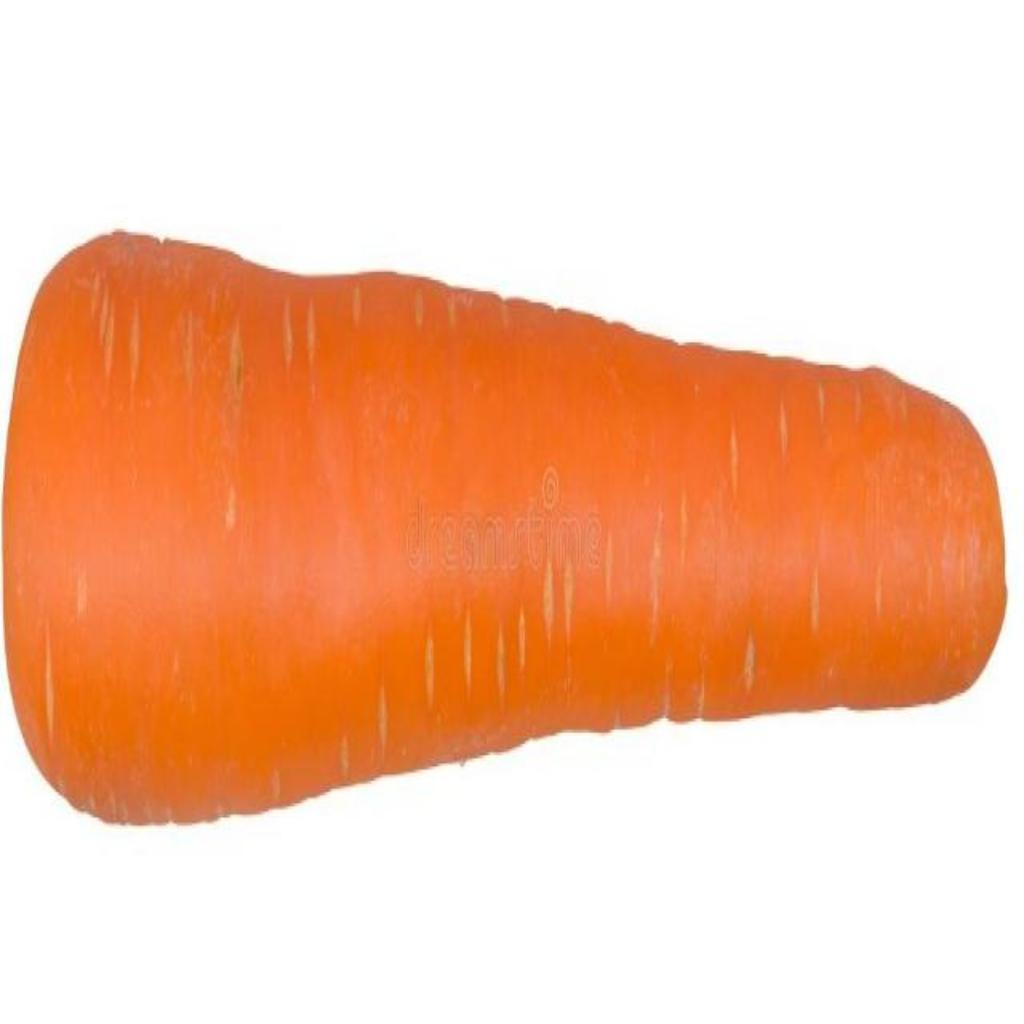carrot: (4, 234, 1006, 821)
